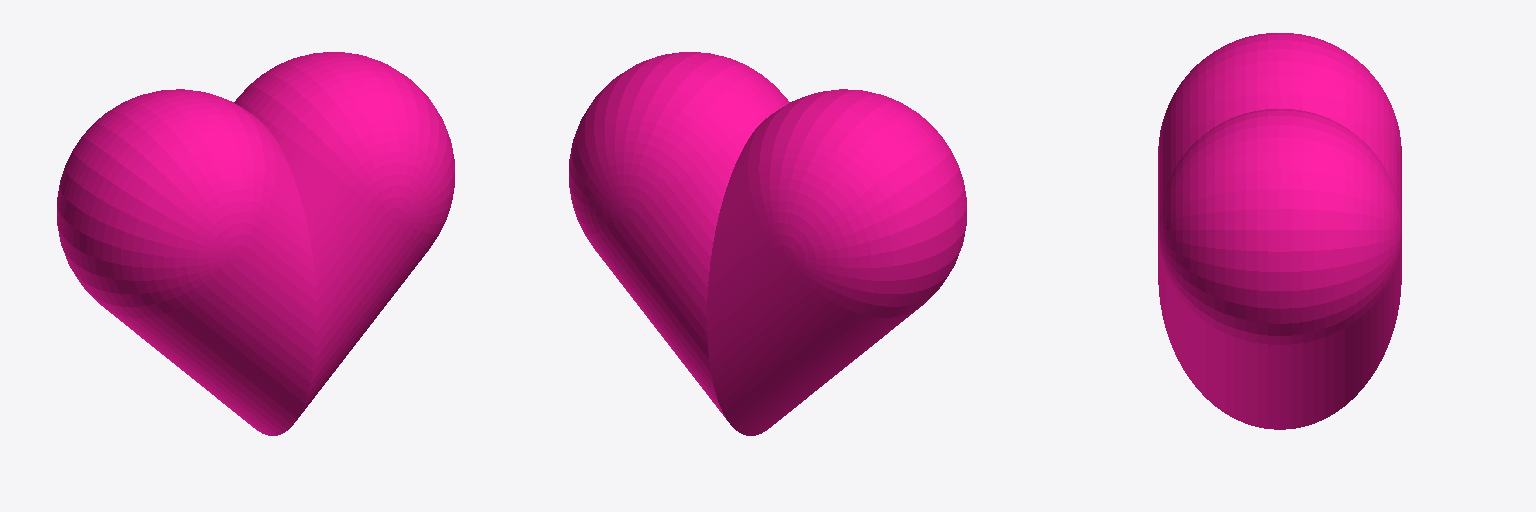
File: Heart_Pink.obj
The picture shows the model from 3 angles: view 1: azimuth 30°, elevation 25°; view 2: azimuth 150°, elevation 25°; view 3: azimuth 270°, elevation 25°; orthographic projection.
Visible parts, largest first — view 1: Plane.001; view 2: Plane.001; view 3: Plane.001.
Boxes of the visible parts, <box> form: Plane.001: <box>57,52,454,435</box>; Plane.001: <box>569,52,966,435</box>; Plane.001: <box>1158,33,1401,429</box>.
Size of the model in its own units: 5.25 by 4.77 by 3.04.